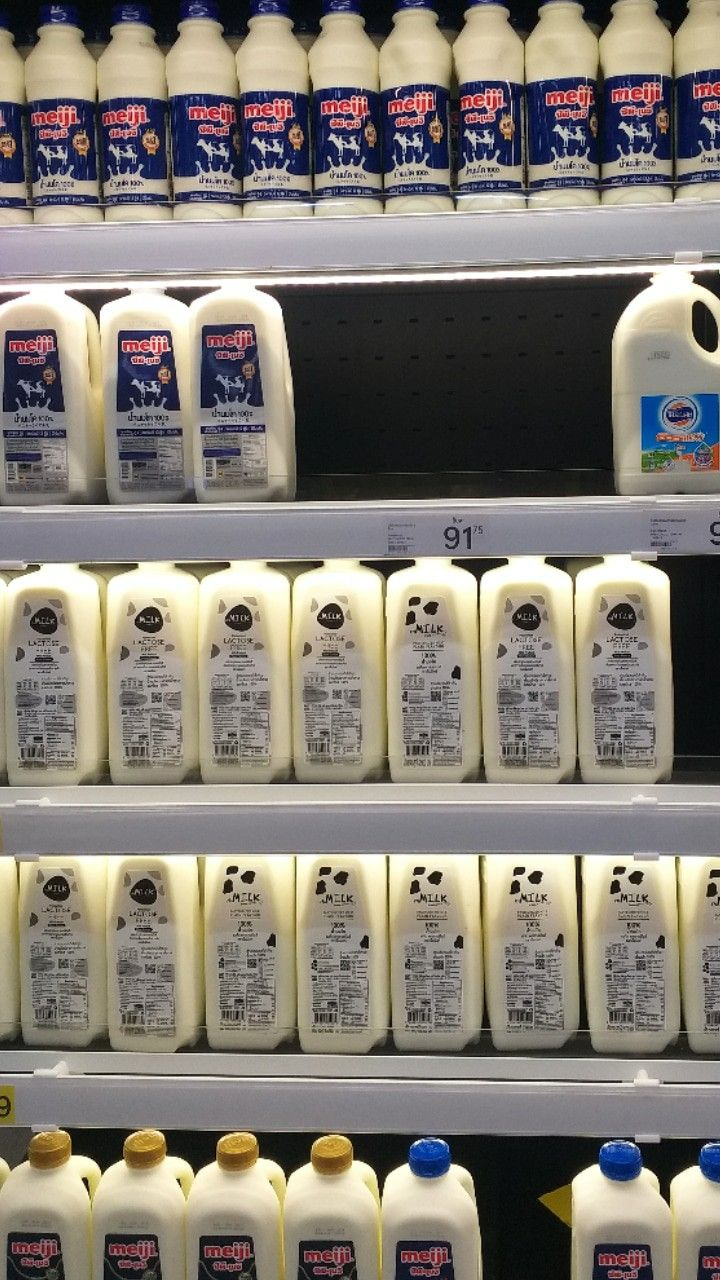milk: (190, 284, 295, 501), (291, 561, 385, 781), (107, 562, 198, 781), (387, 562, 478, 780), (483, 855, 578, 1050), (166, 0, 239, 219)
